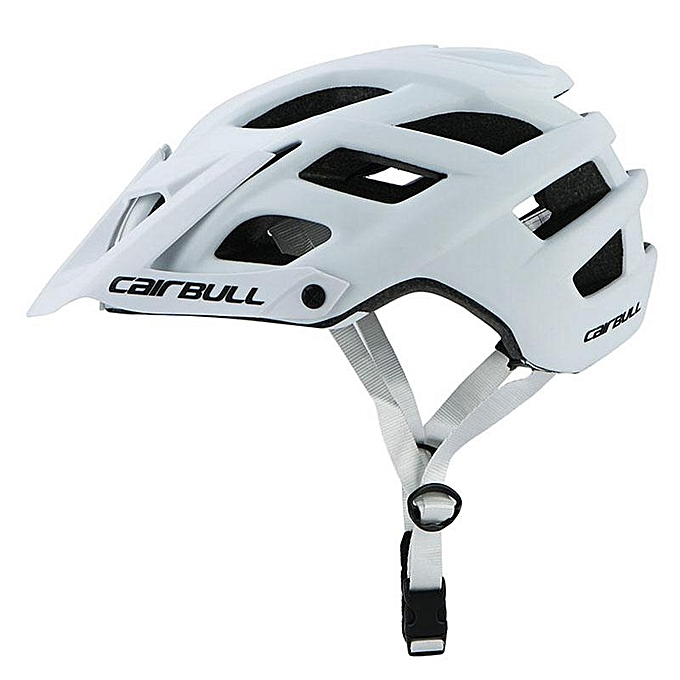with_helmet: (23, 40, 663, 403)
